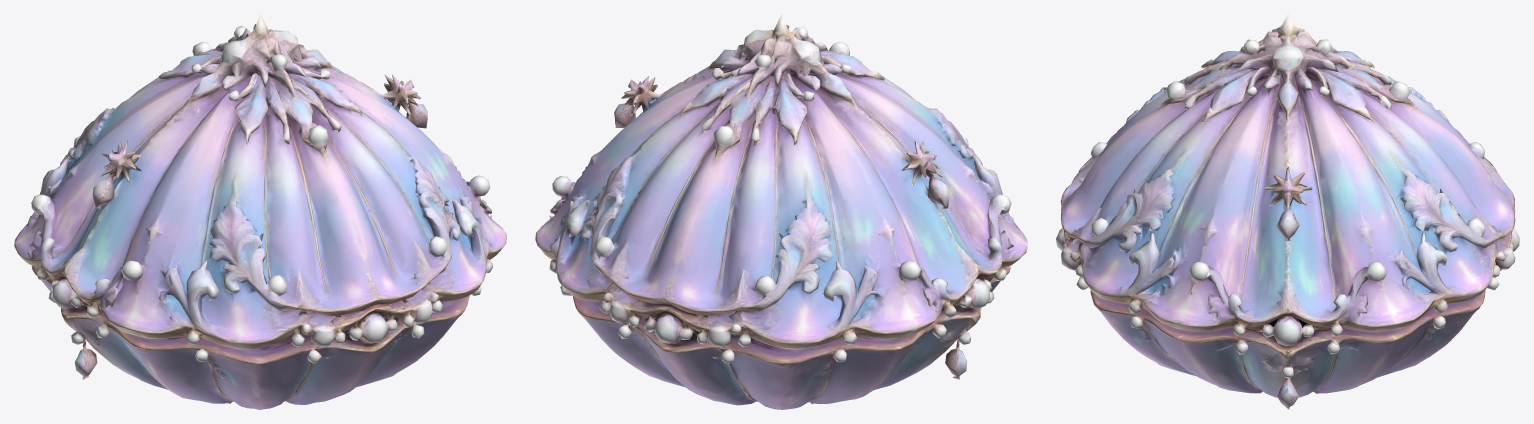
Rendered from shell.glb.
The picture shows the model from 3 angles, left to right: view 1: azimuth 30°, elevation 25°; view 2: azimuth 150°, elevation 25°; view 3: azimuth 270°, elevation 25°; orthographic projection. The views are drawn at different scales.
Parts seen in each view (by area): view 1: tripo_node_5eec2d6a-fbe3-42d6-89d8-03ebedfa5dc0; view 2: tripo_node_5eec2d6a-fbe3-42d6-89d8-03ebedfa5dc0; view 3: tripo_node_5eec2d6a-fbe3-42d6-89d8-03ebedfa5dc0.
Boxes of the visible parts, left/top/right/bottom form: tripo_node_5eec2d6a-fbe3-42d6-89d8-03ebedfa5dc0: left=14, top=14, right=506, bottom=409; tripo_node_5eec2d6a-fbe3-42d6-89d8-03ebedfa5dc0: left=535, top=14, right=1027, bottom=409; tripo_node_5eec2d6a-fbe3-42d6-89d8-03ebedfa5dc0: left=1056, top=14, right=1519, bottom=409.
Size of the model in its own units: 0.9961 by 0.8475 by 1.
Materials: 1 (1 with a texture image).
